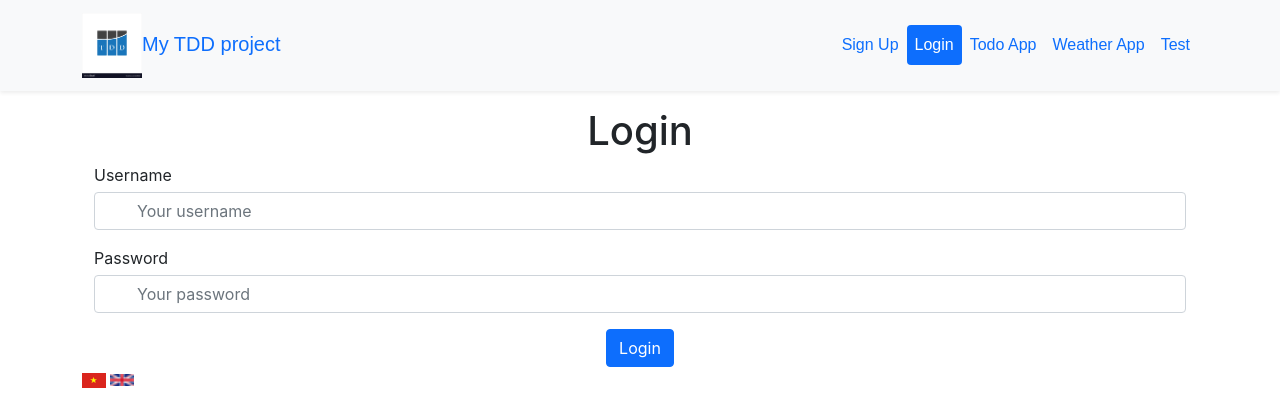
Test case: routing › display home page when clicking brand logo
Click the picture with alt text "My TDD project": (112, 45) [82,13,142,78]
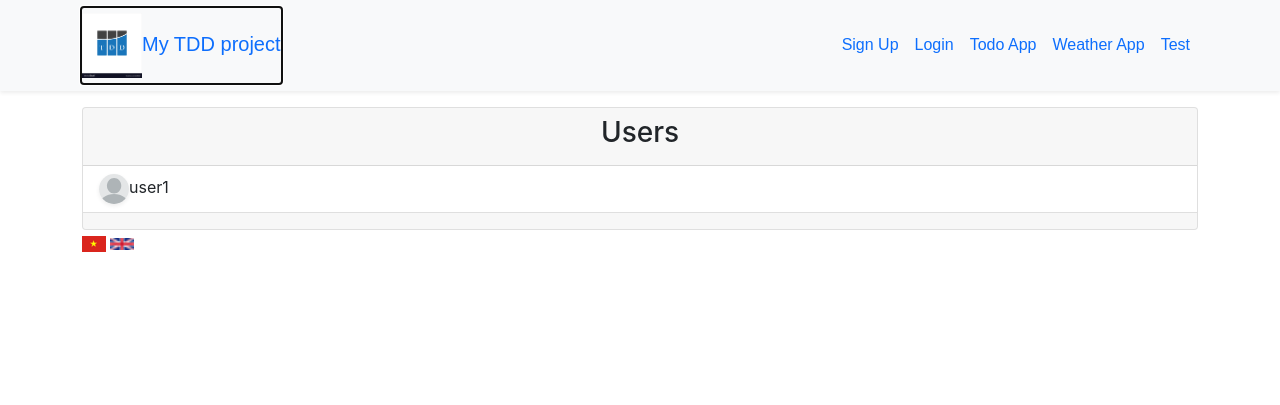
expect the element with test id "home-page" is shown: met, box [82,107,1198,230]
